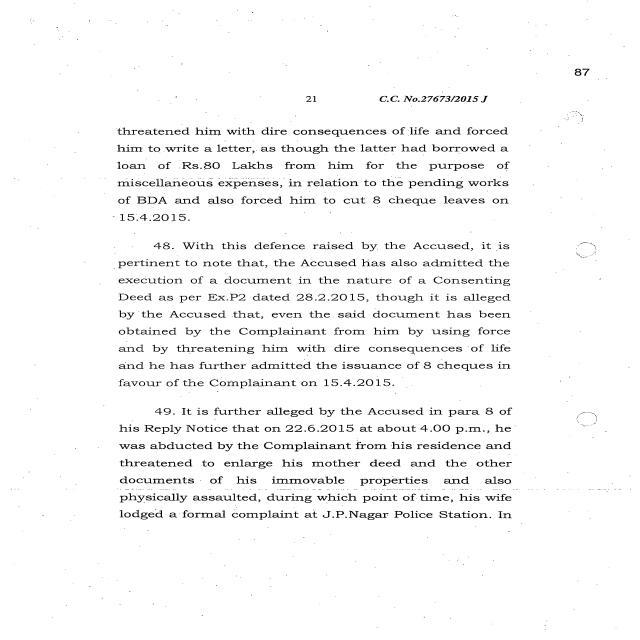page-number: (493, 26, 640, 116)
